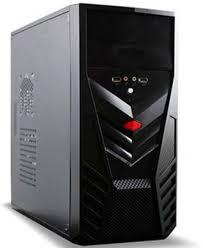pc: (4, 2, 178, 248)
